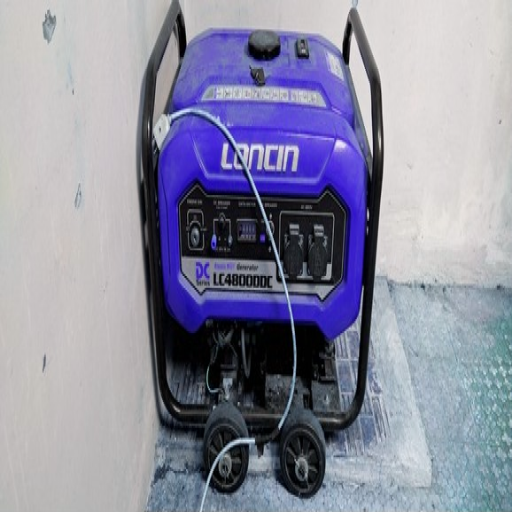portable_generator: (136, 1, 386, 434)
